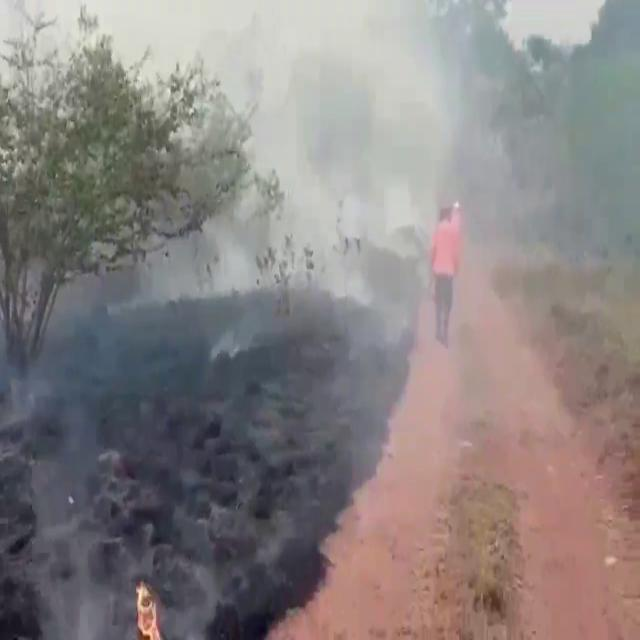Fire: (129, 572, 170, 640)
Smoke: (200, 1, 634, 456)
